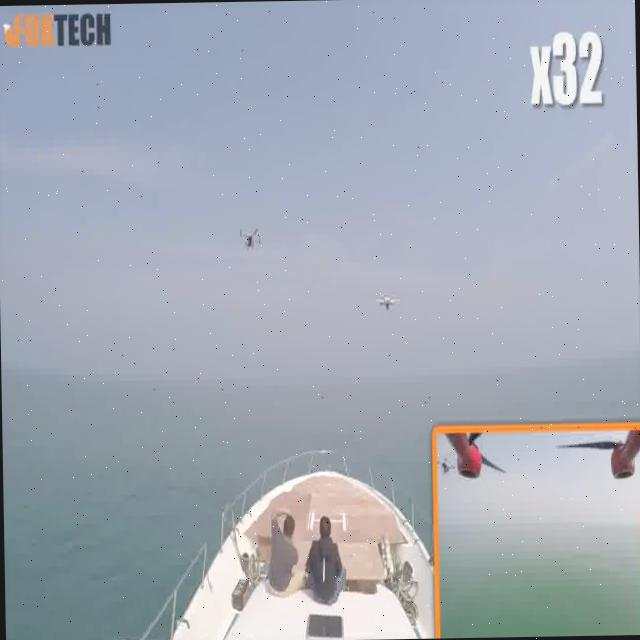drone: (230, 216, 273, 254), (368, 278, 404, 316)
